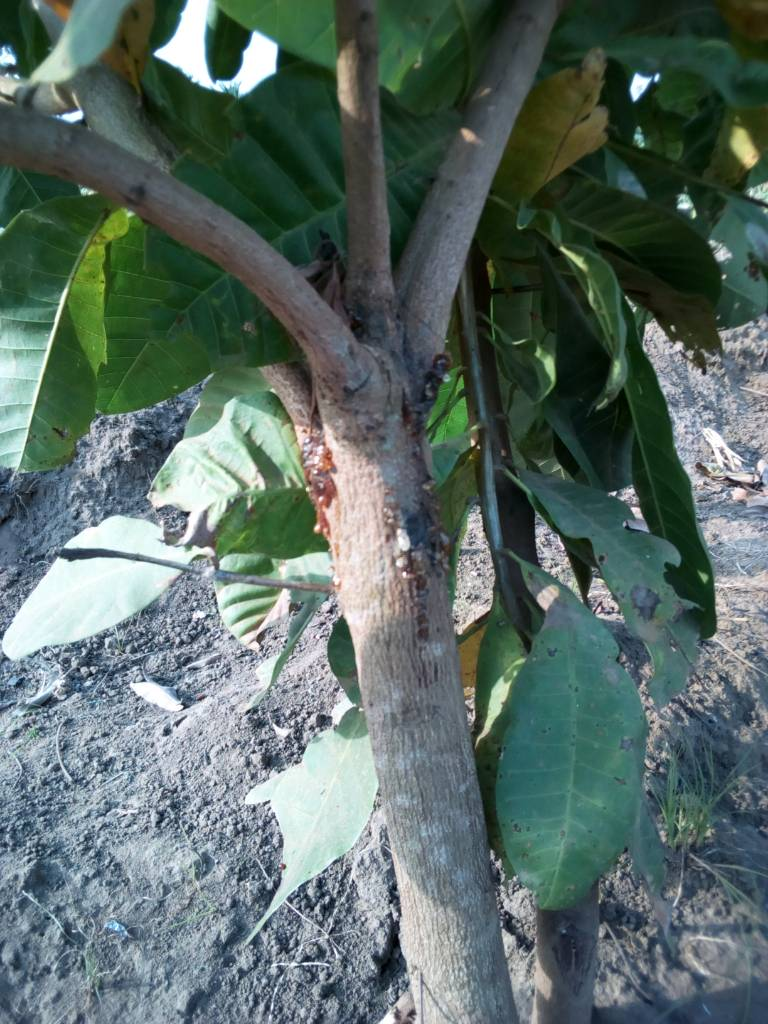Gommose: (388, 358, 474, 622), (304, 428, 333, 541)
